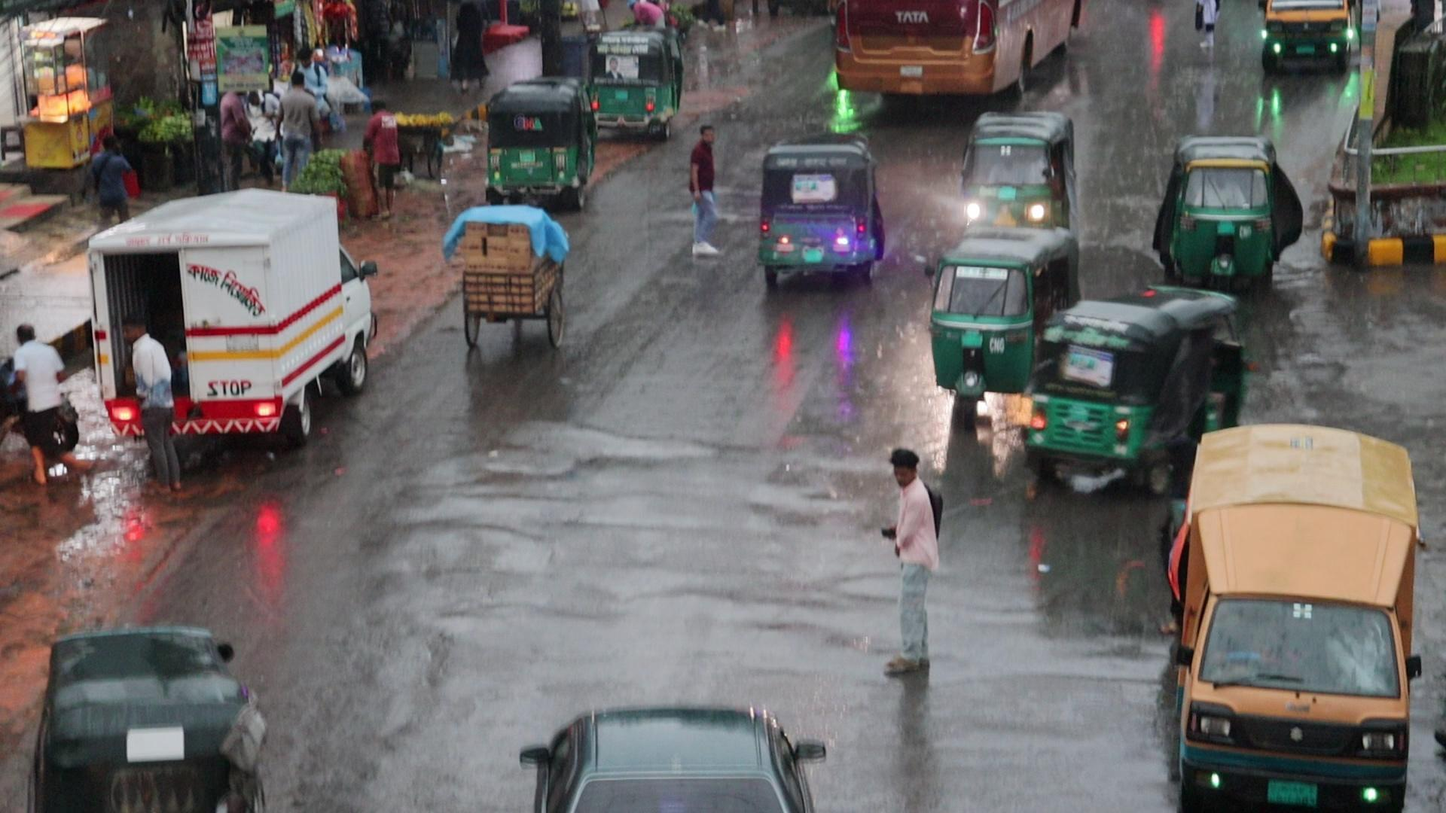Truck: (1174, 419, 1423, 811)
